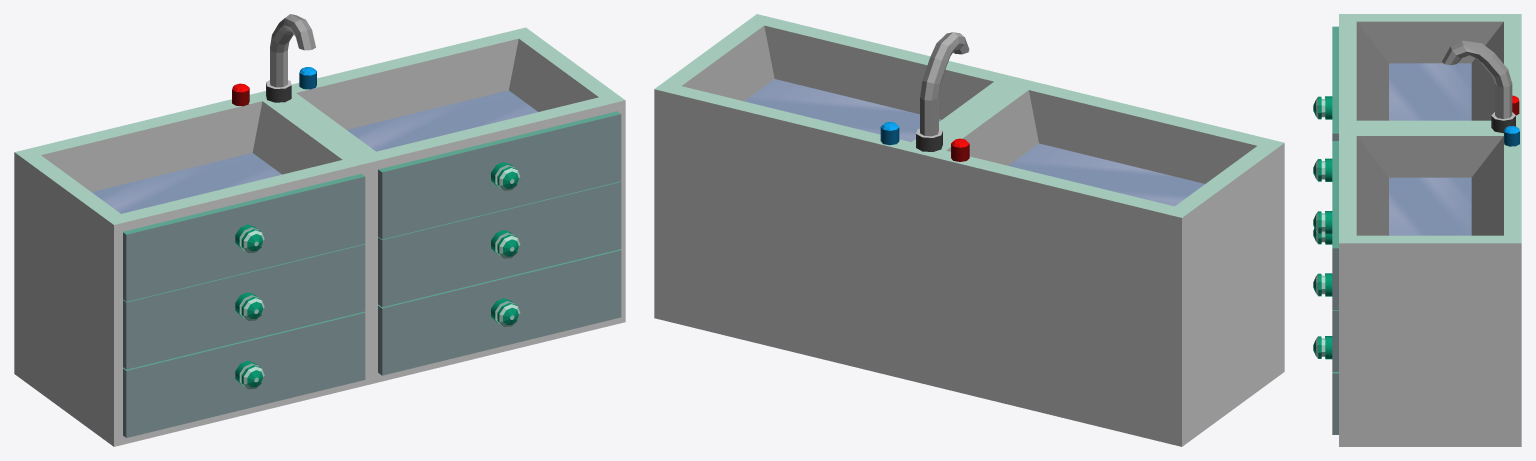
File: Cabinet_Green_Lower_Double_Sink.fbx
3 renders of one model, left to right at view 1: azimuth 30°, elevation 25°; view 2: azimuth 150°, elevation 25°; view 3: azimuth 270°, elevation 25°, orthographic. The views are drawn at different scales.
Visible parts, largest first — view 1: Cabinet_Green_Lower_Double_Sink, Cabinet_Green_Lower_Double_Sink003, Cabinet_Green_Lower_Double_Sink.001, Cabinet_Green_Lower_Double_Sink005, Cabinet_Green_Lower_Double_Sink002, Cabinet_Green_Lower_Double_Sink004, Cabinet_Green_Lower_Double_Sink001; view 2: Cabinet_Green_Lower_Double_Sink; view 3: Cabinet_Green_Lower_Double_Sink, Cabinet_Green_Lower_Double_Sink003, Cabinet_Green_Lower_Double_Sink.001, Cabinet_Green_Lower_Double_Sink004, Cabinet_Green_Lower_Double_Sink005, Cabinet_Green_Lower_Double_Sink001, Cabinet_Green_Lower_Double_Sink002.
Boxes of the visible parts, x1,y1,x2,y2 form: Cabinet_Green_Lower_Double_Sink: (14,14,625,446); Cabinet_Green_Lower_Double_Sink003: (378,111,621,239); Cabinet_Green_Lower_Double_Sink.001: (123,174,365,301); Cabinet_Green_Lower_Double_Sink005: (378,249,621,375); Cabinet_Green_Lower_Double_Sink002: (123,312,365,437); Cabinet_Green_Lower_Double_Sink004: (378,181,621,307); Cabinet_Green_Lower_Double_Sink001: (123,244,365,369); Cabinet_Green_Lower_Double_Sink: (654,14,1284,446); Cabinet_Green_Lower_Double_Sink: (1339,14,1521,446); Cabinet_Green_Lower_Double_Sink003: (1313,141,1338,309); Cabinet_Green_Lower_Double_Sink.001: (1313,26,1338,140); Cabinet_Green_Lower_Double_Sink004: (1313,273,1338,371); Cabinet_Green_Lower_Double_Sink005: (1313,336,1338,434); Cabinet_Green_Lower_Double_Sink001: (1313,158,1332,181); Cabinet_Green_Lower_Double_Sink002: (1313,228,1332,244).
Bounding box in the file's own units: 200 × 118 × 76.91.
